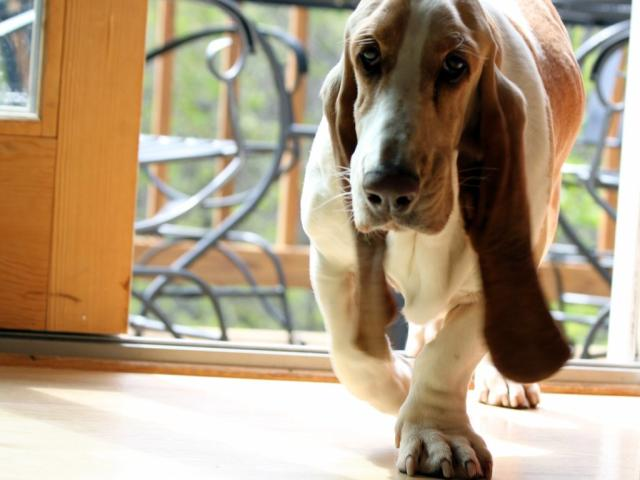Dog: (300, 0, 585, 480)
